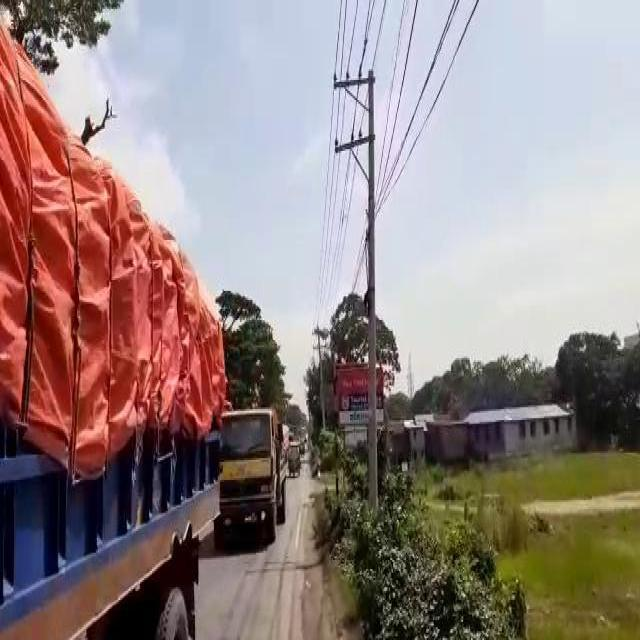18: (2, 42, 224, 638), (220, 404, 288, 541)
Car: (286, 438, 300, 476)
